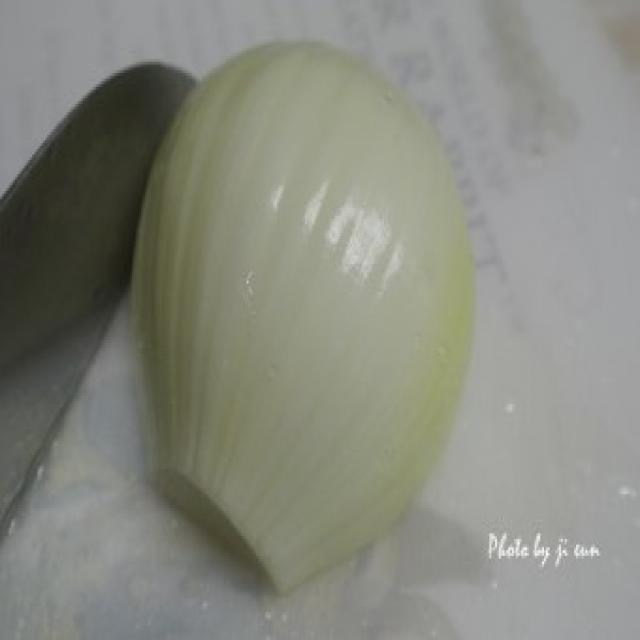onion: (144, 39, 476, 576)
